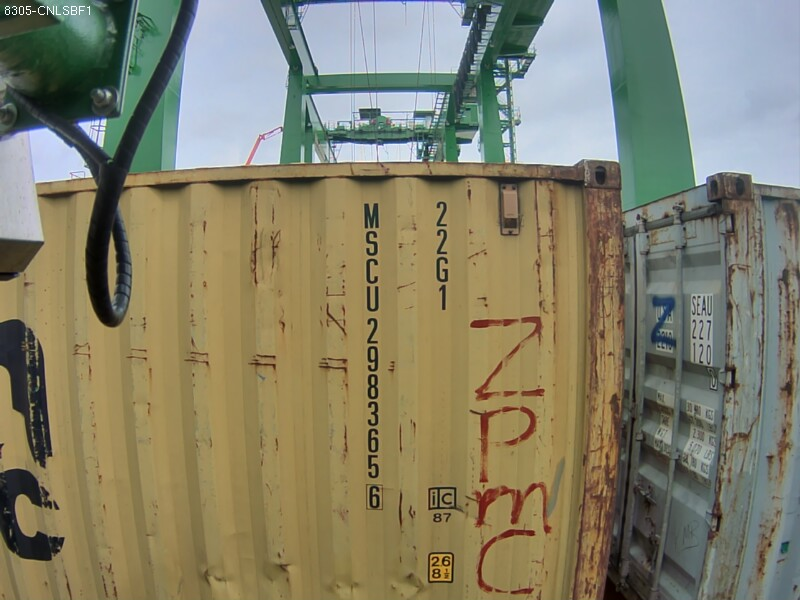container_no_door: (141, 154, 630, 560)
